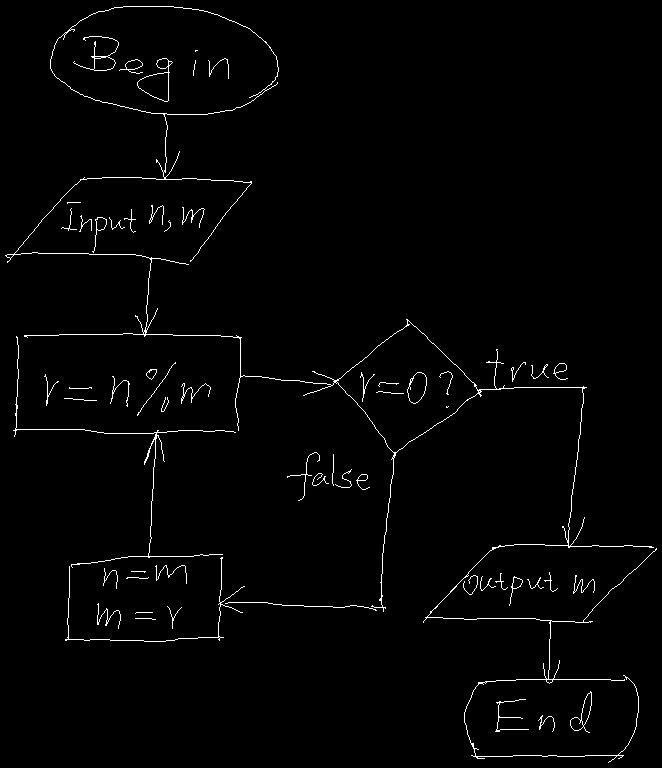arrow: (218, 452, 395, 612), (477, 386, 586, 547), (144, 430, 164, 557), (240, 371, 335, 395), (135, 257, 157, 336), (156, 114, 179, 178), (543, 620, 559, 683)
data: (5, 177, 251, 264), (423, 544, 656, 622)
decision: (333, 319, 481, 455)
process: (13, 333, 241, 436), (65, 554, 223, 641)
terminator: (50, 6, 278, 114), (464, 675, 638, 762)
text: (73, 36, 228, 101), (44, 362, 210, 415), (61, 202, 204, 252), (97, 565, 186, 628), (463, 572, 594, 605), (495, 691, 591, 732), (287, 452, 369, 500), (360, 371, 452, 407), (486, 349, 567, 389)
